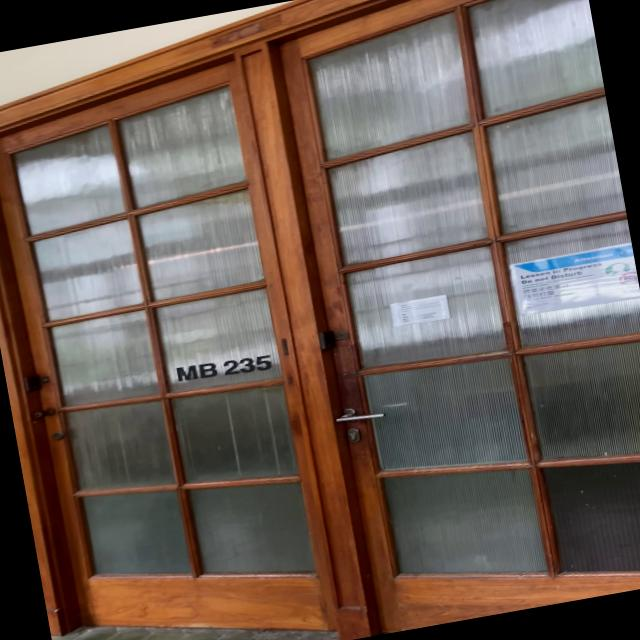room235Window: (167, 346, 283, 390)
